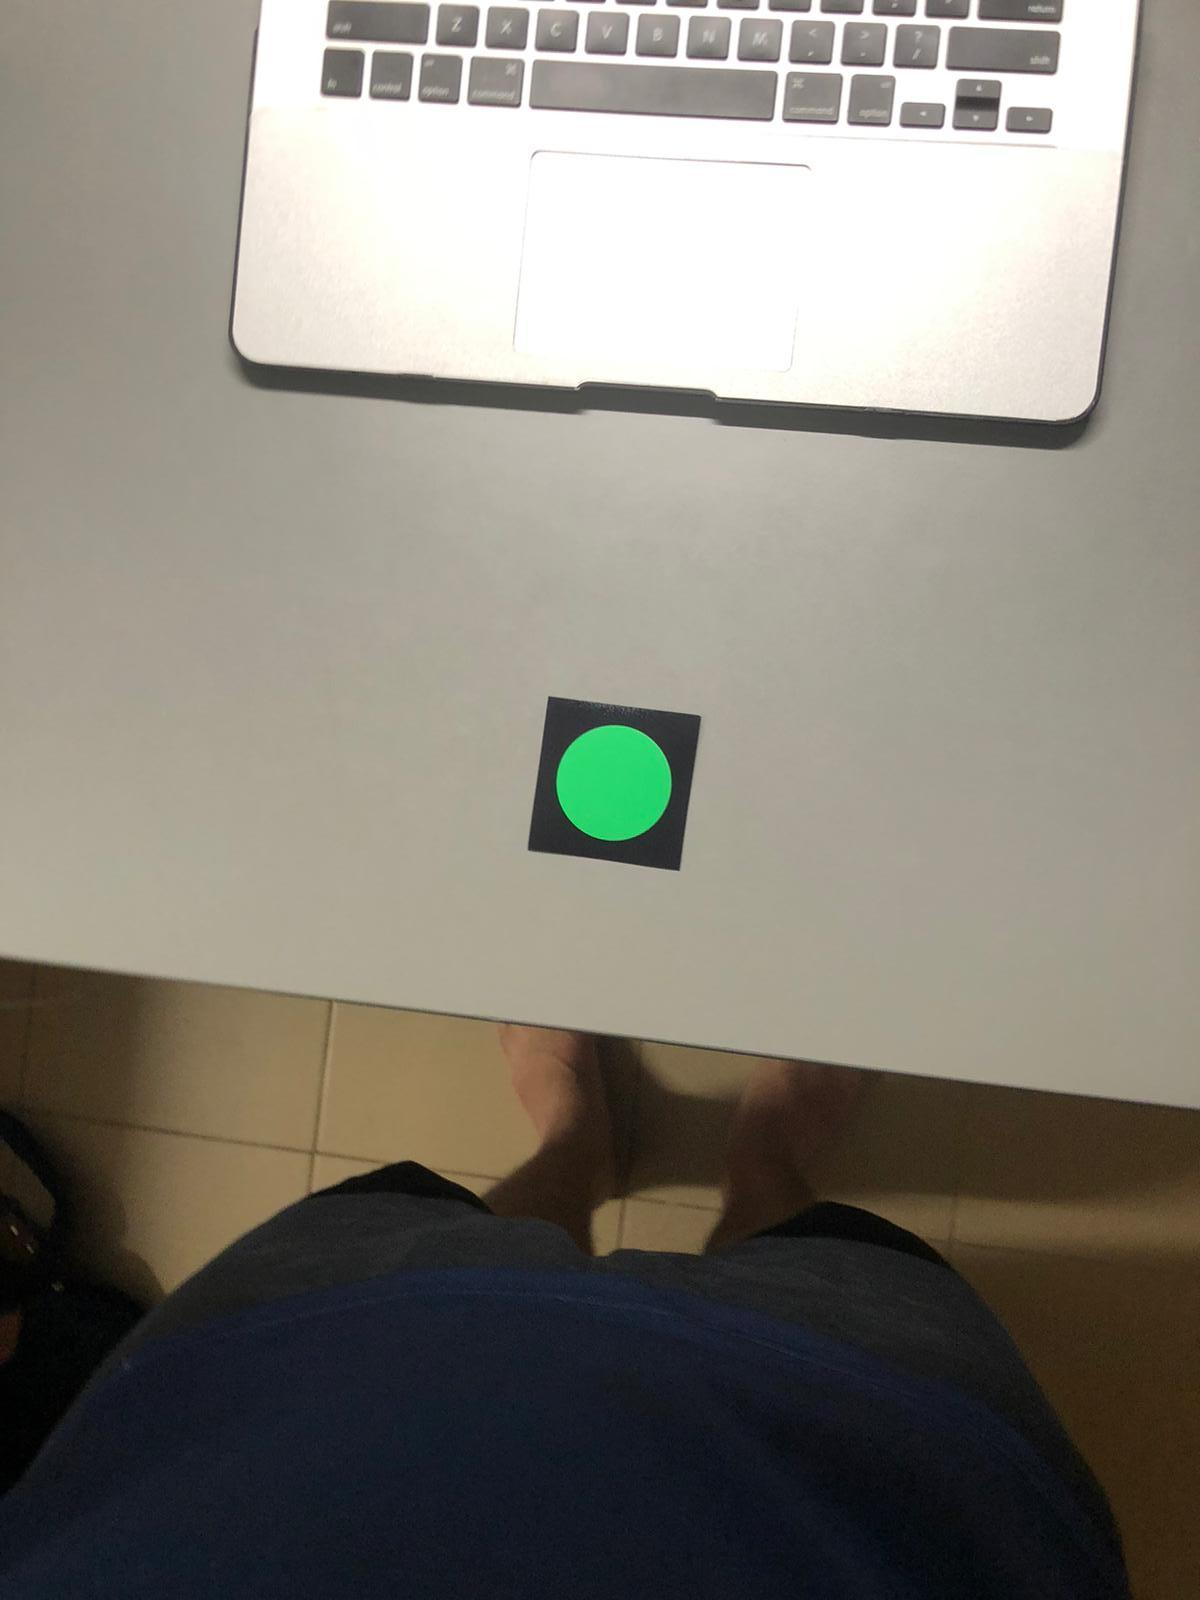Circle: (534, 698, 695, 867)
